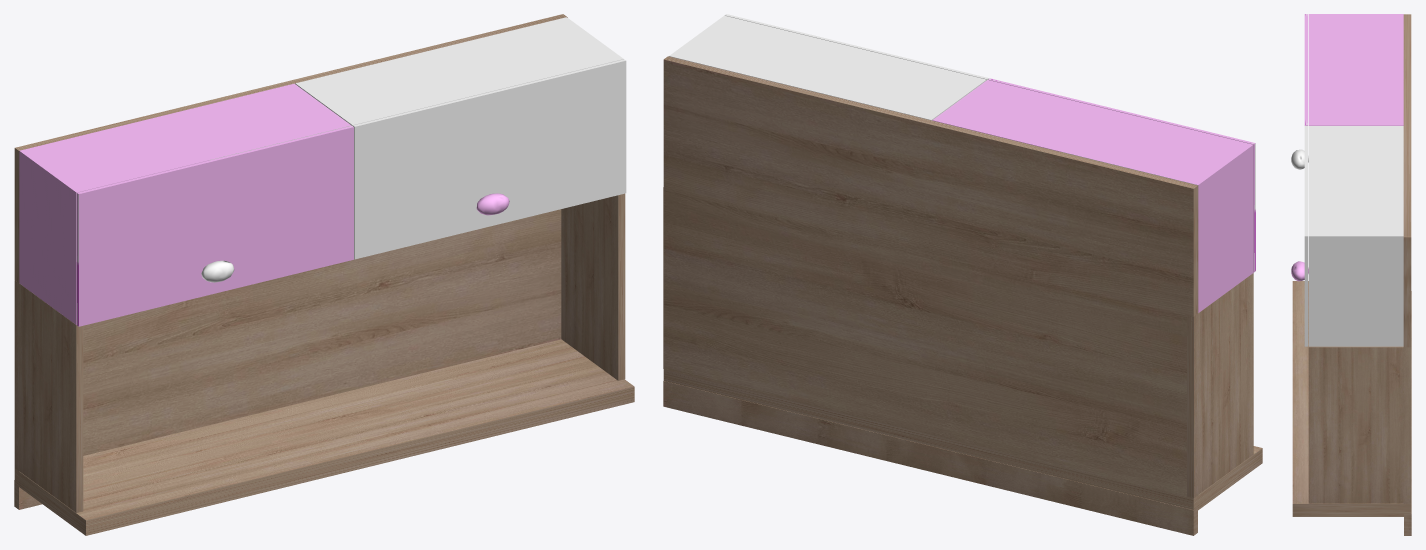
The model's file is Shelving.FBX.
The picture shows the model from 3 angles, left to right: view 1: azimuth 30°, elevation 25°; view 2: azimuth 150°, elevation 25°; view 3: azimuth 270°, elevation 25°; orthographic projection. The views are drawn at different scales.
Visible parts, largest first — view 1: shelving; view 2: shelving; view 3: shelving.
Boxes of the visible parts, x1=… form: shelving: x1=14, y1=14, x2=634, y2=535; shelving: x1=663, y1=14, x2=1262, y2=535; shelving: x1=1291, y1=14, x2=1411, y2=535.
Size of the model in its own units: 801 by 183 by 501.
Materials: 2 (2 with a texture image).
